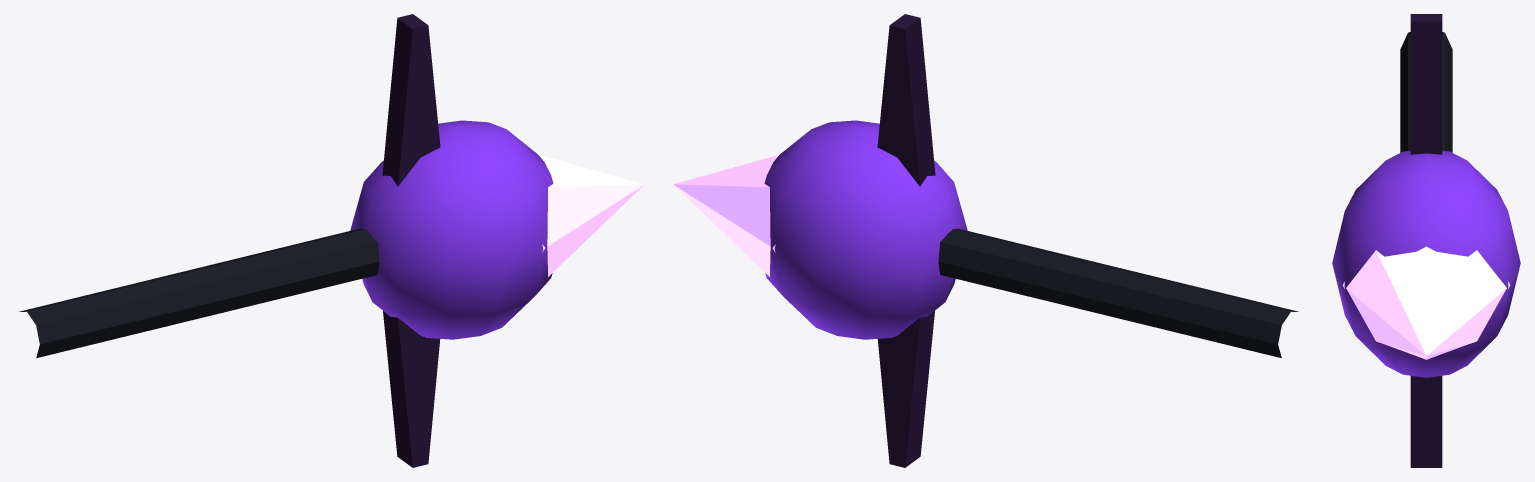
Rendered from abyssal-blade.glb.
3 renders of one model, left to right at view 1: azimuth 30°, elevation 25°; view 2: azimuth 150°, elevation 25°; view 3: azimuth 270°, elevation 25°, orthographic.
Visible parts, largest first — view 1: abyssal-blade-void-head, abyssal-blade-haft, abyssal-blade-side-blade-l, abyssal-blade-side-blade-r, abyssal-blade-void-spike; view 2: abyssal-blade-void-head, abyssal-blade-haft, abyssal-blade-side-blade-l, abyssal-blade-side-blade-r, abyssal-blade-void-spike; view 3: abyssal-blade-void-head, abyssal-blade-void-spike, abyssal-blade-side-blade-l, abyssal-blade-side-blade-r, abyssal-blade-haft.
Part boxes in pixels (x1,y1,x2,y2): abyssal-blade-void-head: (350, 120, 553, 339); abyssal-blade-haft: (19, 228, 379, 358); abyssal-blade-side-blade-l: (382, 14, 440, 186); abyssal-blade-side-blade-r: (383, 311, 440, 467); abyssal-blade-void-spike: (538, 154, 644, 276); abyssal-blade-void-head: (764, 120, 967, 339); abyssal-blade-haft: (938, 228, 1298, 358); abyssal-blade-side-blade-l: (877, 14, 935, 186); abyssal-blade-side-blade-r: (877, 311, 934, 467); abyssal-blade-void-spike: (673, 154, 779, 276); abyssal-blade-void-head: (1332, 150, 1520, 377); abyssal-blade-void-spike: (1342, 246, 1510, 359); abyssal-blade-side-blade-l: (1410, 14, 1442, 154); abyssal-blade-side-blade-r: (1410, 376, 1442, 467); abyssal-blade-haft: (1400, 32, 1452, 152).
Size of the model in its own units: 1.39 by 0.94 by 0.36.
